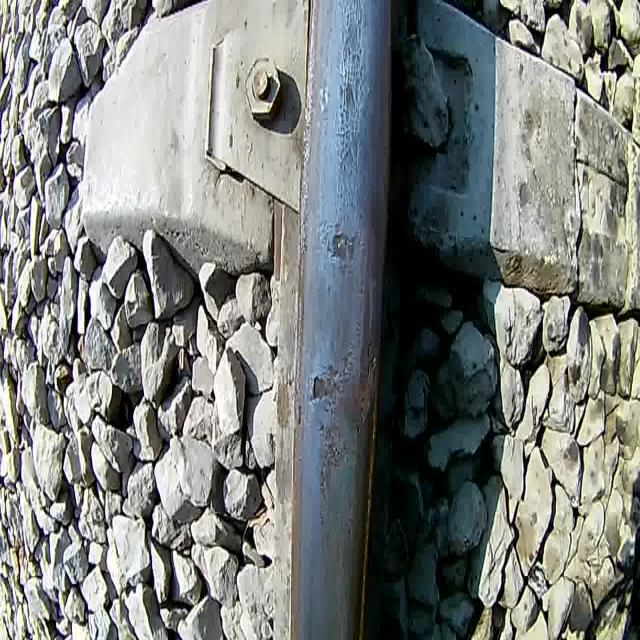Squats: (305, 334, 381, 511), (332, 0, 367, 216), (317, 219, 362, 271)
